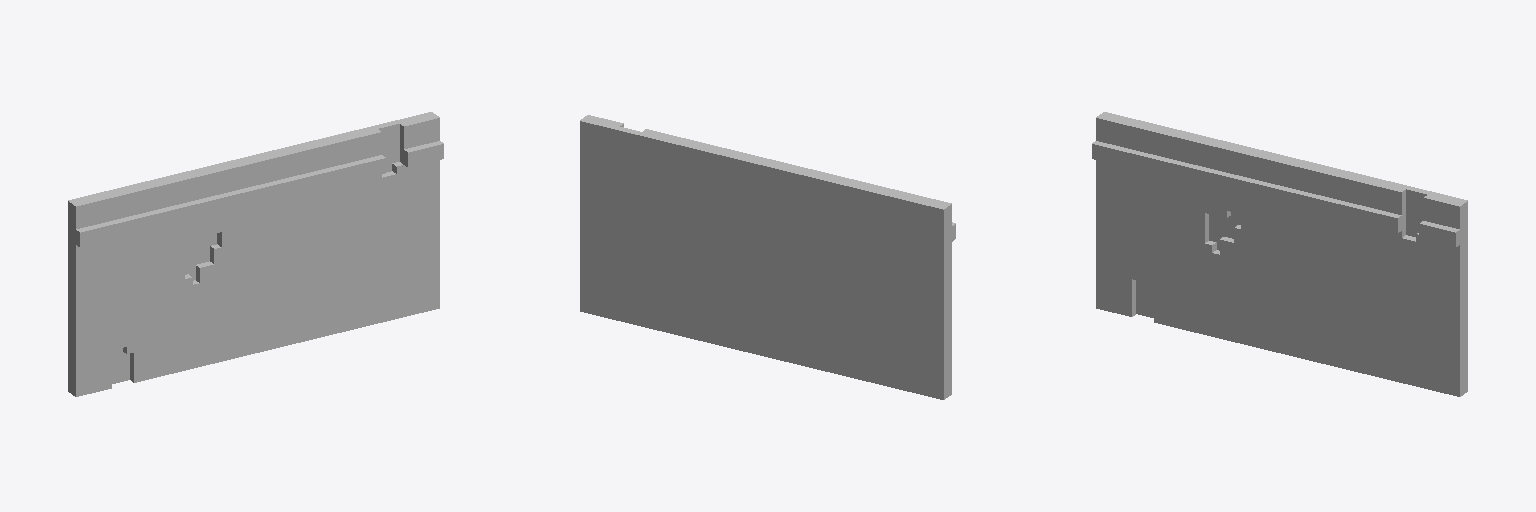
The model's file is Cafearatia wall out line.obj.
3 renders of one model, left to right at view 1: azimuth 30°, elevation 25°; view 2: azimuth 150°, elevation 25°; view 3: azimuth 330°, elevation 25°, orthographic.
Size of the model in its own units: 50 by 25 by 3.